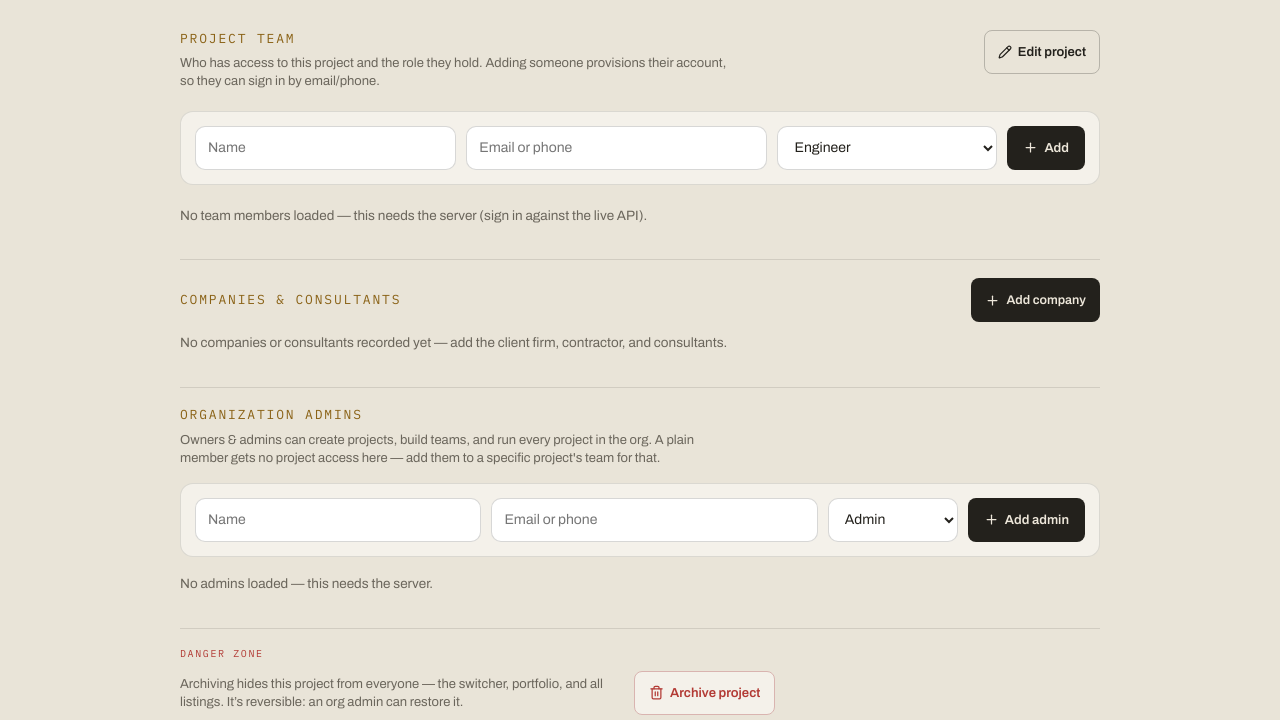
copy that counts right › the org add button names the role chosen — it can add a plain member
Select "Member" in the dropdown named "Org role" at coordinates (893, 520), box [828,498,958,542]
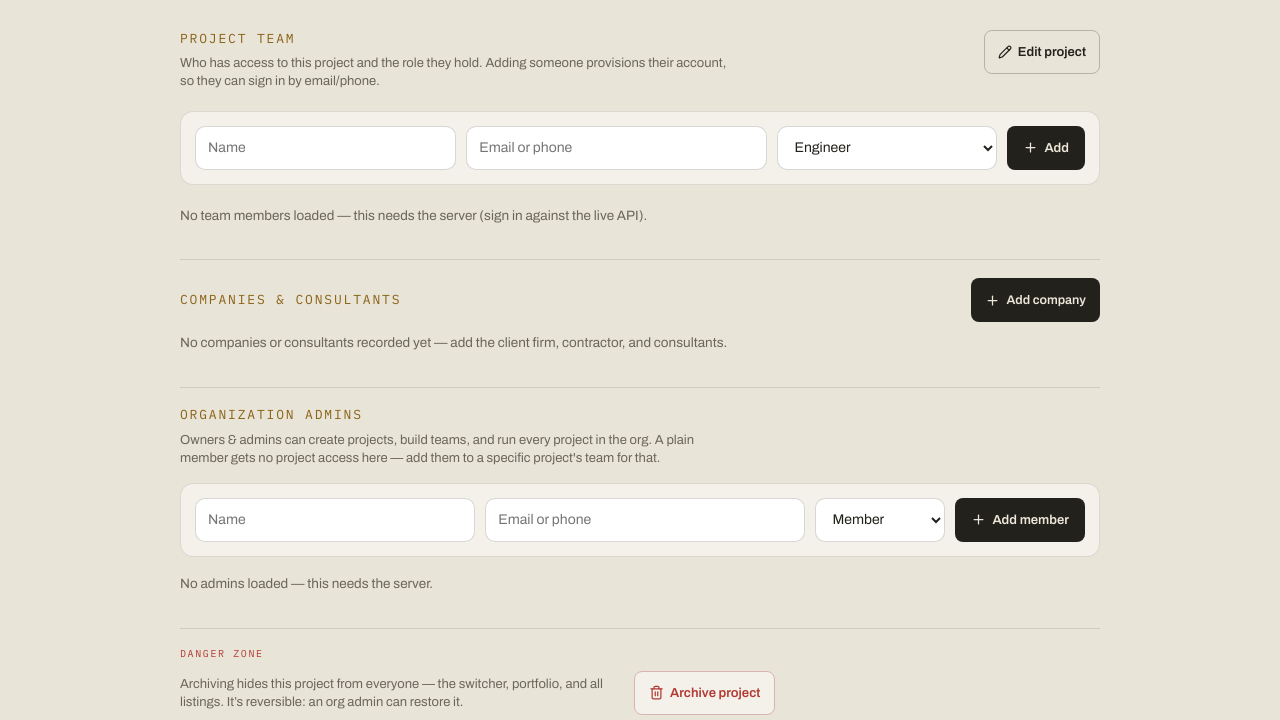
Expected: the button with test id "add-org-member" reads "Add member", [955,498,1085,542]
Select "Admin" in the dropdown named "Org role" at coordinates (880, 520), box [815,498,945,542]
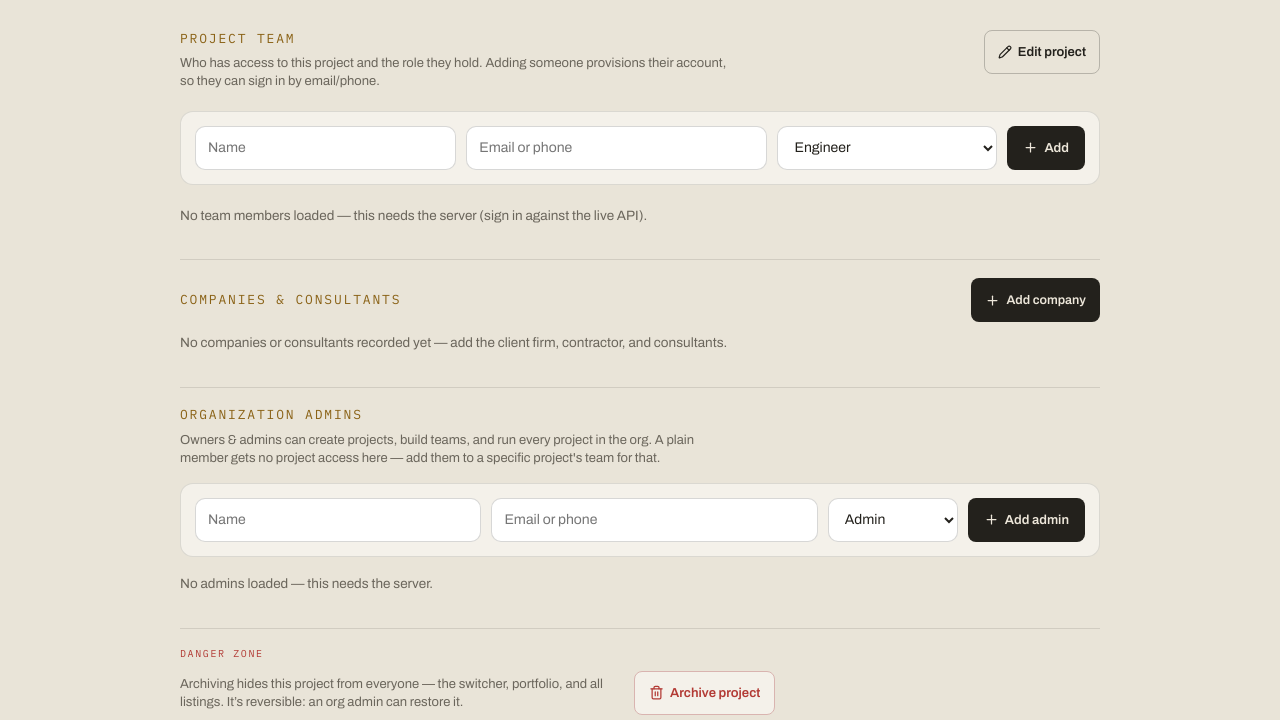
Expected: the button with test id "add-org-member" reads "Add admin", [968,498,1085,542]
